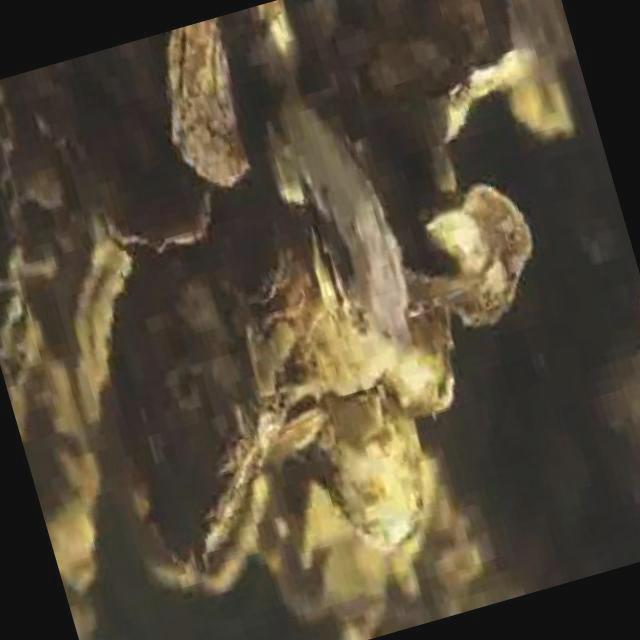Oyster-Closed: (120, 259, 279, 584), (271, 84, 401, 339), (0, 85, 61, 499), (301, 379, 426, 556), (395, 175, 535, 319), (160, 13, 258, 193), (103, 127, 215, 259), (287, 293, 397, 397), (215, 173, 295, 308), (364, 15, 485, 104), (207, 478, 288, 599), (386, 311, 466, 421), (461, 30, 543, 96), (323, 552, 385, 639), (246, 1, 302, 96), (417, 454, 456, 559), (272, 407, 337, 467), (276, 544, 325, 622), (458, 0, 500, 43)
Oyster-Open: (306, 215, 354, 317)
